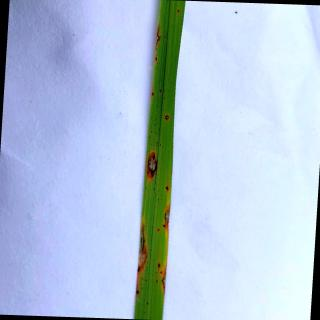Blast: (138, 224, 150, 274), (146, 152, 159, 180), (155, 24, 161, 51), (163, 205, 170, 228), (161, 270, 166, 292), (164, 113, 171, 121), (156, 260, 161, 269), (164, 185, 170, 191), (135, 289, 140, 295), (151, 91, 155, 98), (155, 55, 158, 61)
